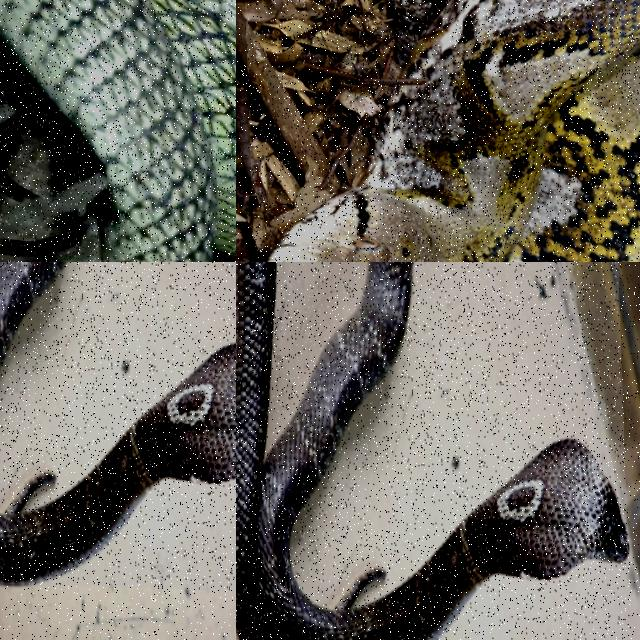Chrysopelea ornata: (0, 0, 235, 261)
Malayopython reticulatus: (260, 0, 639, 261)
Naja kaouthia: (236, 262, 627, 639), (0, 344, 235, 585)
snake: (236, 262, 627, 639), (260, 0, 639, 261), (0, 0, 235, 261), (0, 344, 235, 585)
